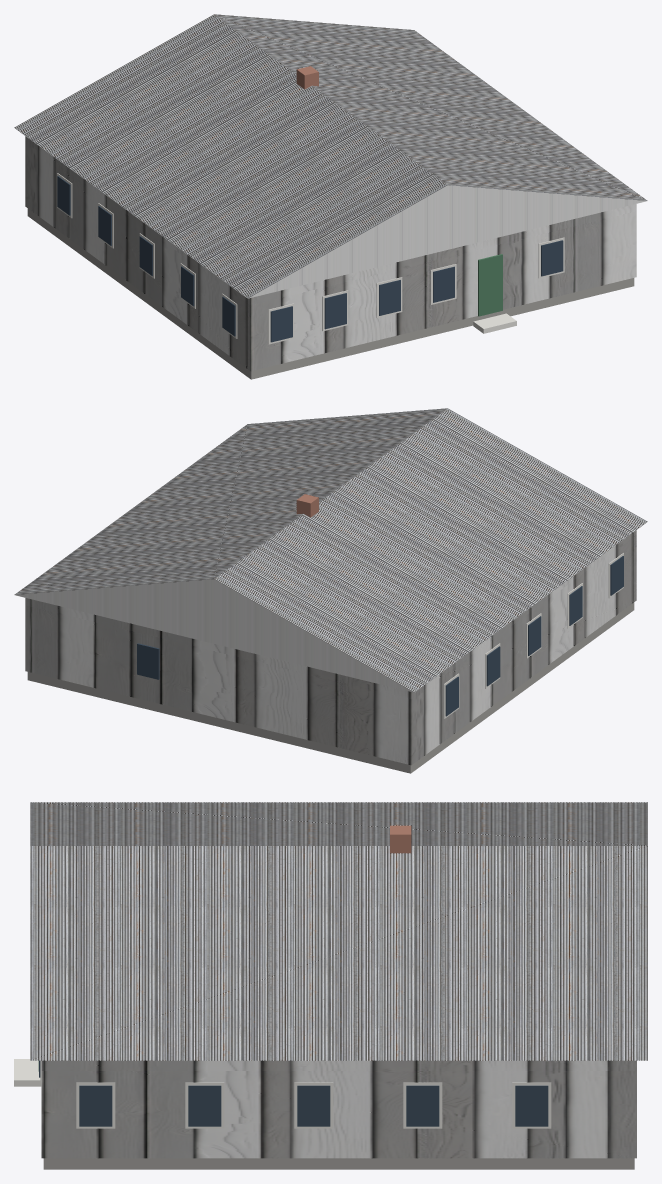
The model's file is asset.glb.
3 renders of one model, top to bottom at view 1: azimuth 30°, elevation 25°; view 2: azimuth 150°, elevation 25°; view 3: azimuth 270°, elevation 25°, orthographic. The views are drawn at different scales.
Visible parts, largest first — view 1: roof, body, gable_end, foundation, door, win, win.004, win.001, win.003, win.002, step; view 2: roof, body, gable_end, foundation, win.015; view 3: roof, body, foundation, win.010, win.011, win.012, win.013, win.014, step, chimney, win_trim.010, win_trim.011 (+3 smaller).
Part boxes in pixels (box(x1,y1,x2,y2)): roof: box(14, 14, 647, 298); body: box(25, 136, 636, 371); gable_end: box(248, 185, 646, 298); foundation: box(27, 208, 634, 379); door: box(478, 254, 502, 316); win: box(270, 306, 292, 342); win.004: box(541, 240, 563, 276); win.001: box(324, 293, 346, 329); win.003: box(433, 266, 454, 302); win.002: box(379, 280, 400, 315); step: box(473, 313, 516, 333); roof: box(14, 408, 647, 692); body: box(25, 530, 636, 765); gable_end: box(15, 579, 413, 692); foundation: box(27, 602, 634, 773); win.015: box(137, 643, 159, 679); roof: box(30, 802, 647, 1060); body: box(41, 1060, 636, 1158); foundation: box(43, 1158, 634, 1169); win.010: box(79, 1085, 112, 1126); win.011: box(188, 1085, 221, 1126); win.012: box(297, 1085, 330, 1126); win.013: box(406, 1085, 439, 1126); win.014: box(515, 1085, 548, 1126); step: box(14, 1059, 41, 1086); chimney: box(390, 825, 411, 853); win_trim.010: box(76, 1082, 115, 1128); win_trim.011: box(185, 1082, 224, 1128).
Bounding box in the file's own units: 15.7 × 6.12 × 16.28.
7 materials, 2 textured.
